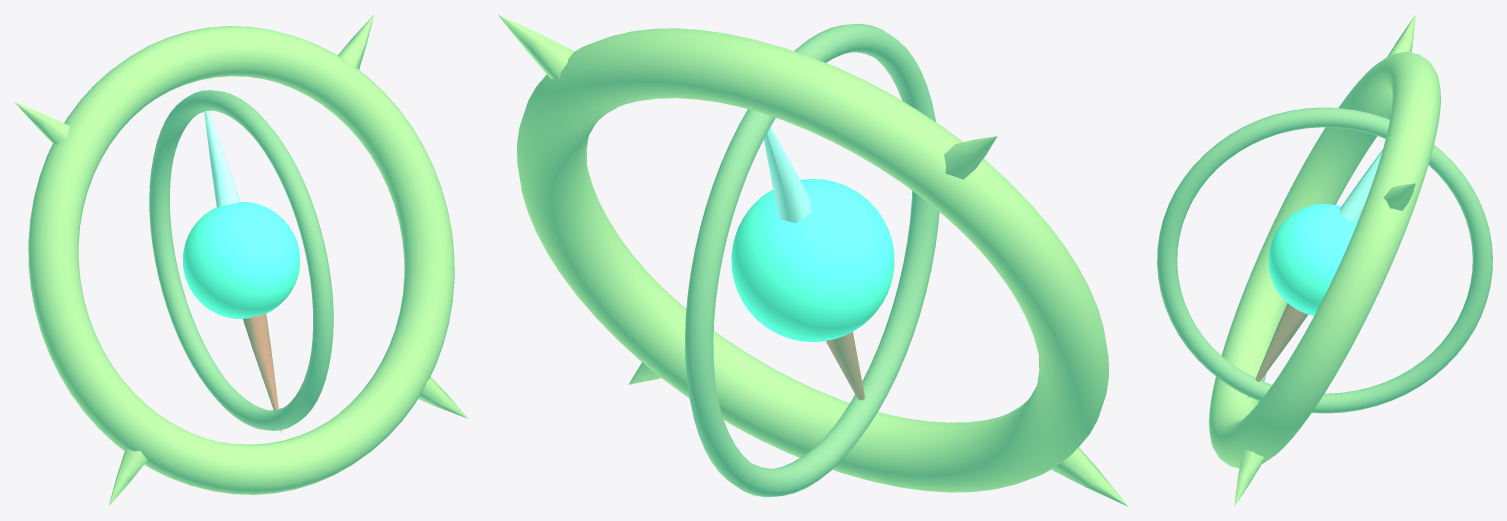
Rendered from compass.glb.
3 renders of one model, left to right at view 1: azimuth 30°, elevation 25°; view 2: azimuth 150°, elevation 25°; view 3: azimuth 270°, elevation 25°, orthographic. The views are drawn at different scales.
Parts seen in each view (by area): view 1: compass; view 2: compass; view 3: compass.
Part boxes in pixels (bbox=[...]): compass: bbox=[14, 14, 468, 506]; compass: bbox=[497, 14, 1128, 506]; compass: bbox=[1157, 14, 1492, 506].
Bounding box in the file's own units: 0.1 × 0.0903 × 0.0741.
